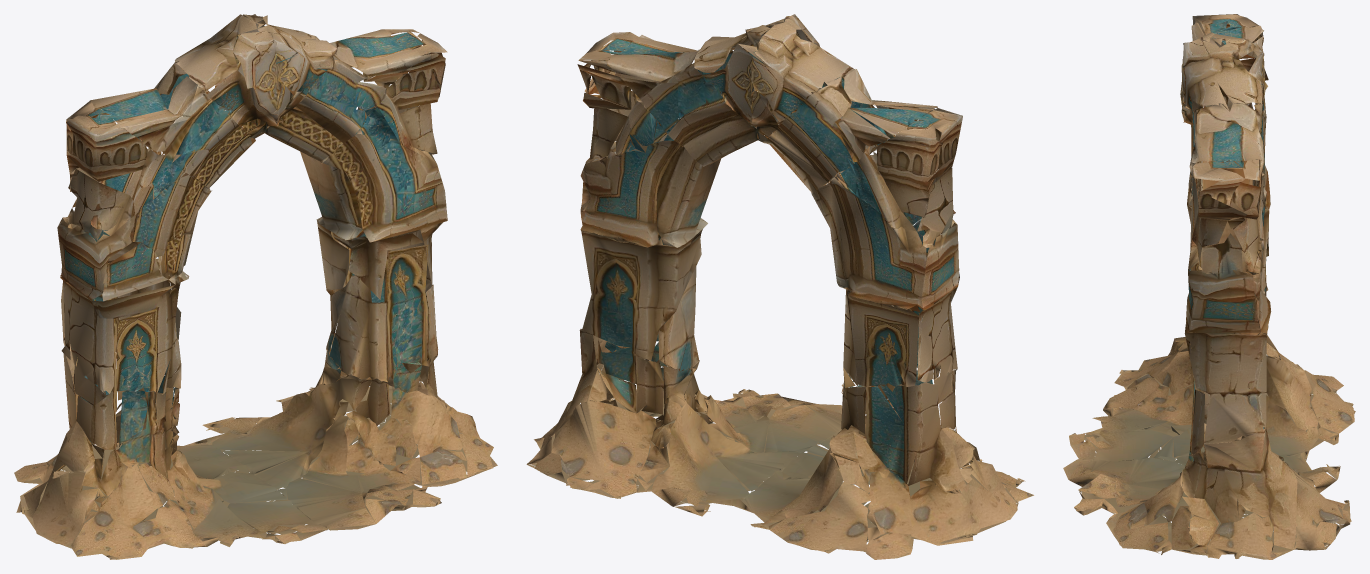
Rendered from SunkenArch.fbx.
The picture shows the model from 3 angles, left to right: view 1: azimuth 30°, elevation 25°; view 2: azimuth 150°, elevation 25°; view 3: azimuth 270°, elevation 25°; orthographic projection. The views are drawn at different scales.
Visible parts, largest first — view 1: SunkenArch_Body; view 2: SunkenArch_Body; view 3: SunkenArch_Body.
Boxes of the visible parts, x1=… form: SunkenArch_Body: x1=14, y1=14, x2=497, y2=559; SunkenArch_Body: x1=526, y1=14, x2=1033, y2=559; SunkenArch_Body: x1=1063, y1=14, x2=1355, y2=559.
Bounding box in the file's own units: 1.02 × 1 × 0.6216.
1 material, 1 textured.
